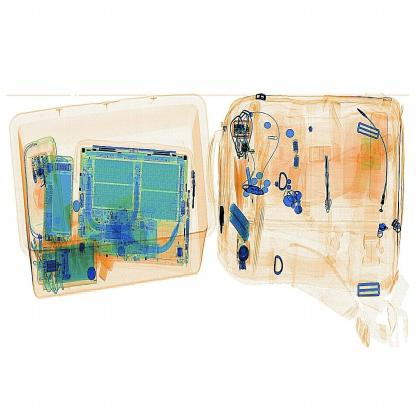knife: (324, 152, 335, 216)
